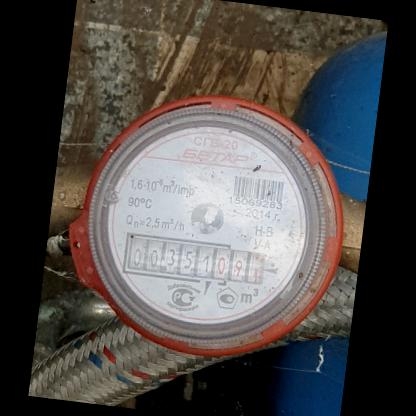digital_screen: (120, 230, 216, 285)
